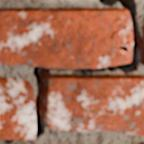brick: (0, 9, 131, 67), (44, 75, 143, 135), (0, 77, 34, 138), (142, 38, 143, 63)
crack: (2, 0, 142, 143)
